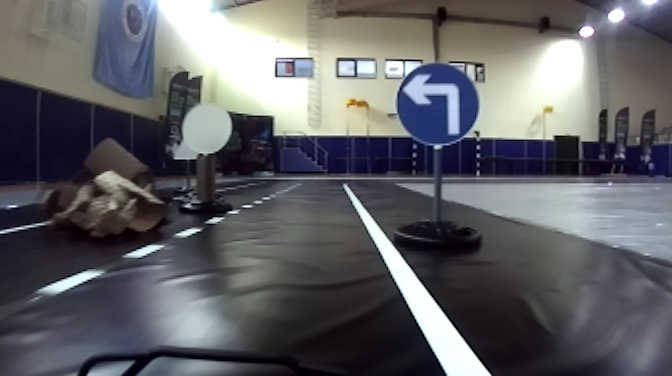sola_donus: (396, 61, 485, 150)
